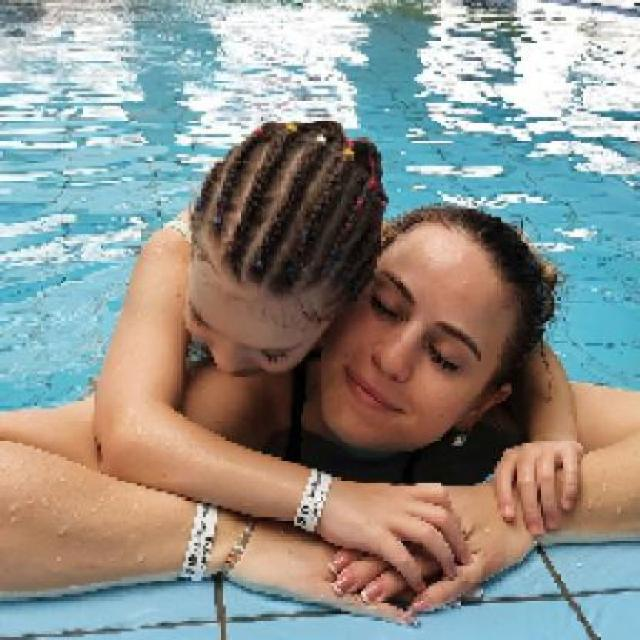child: (92, 117, 585, 594)
